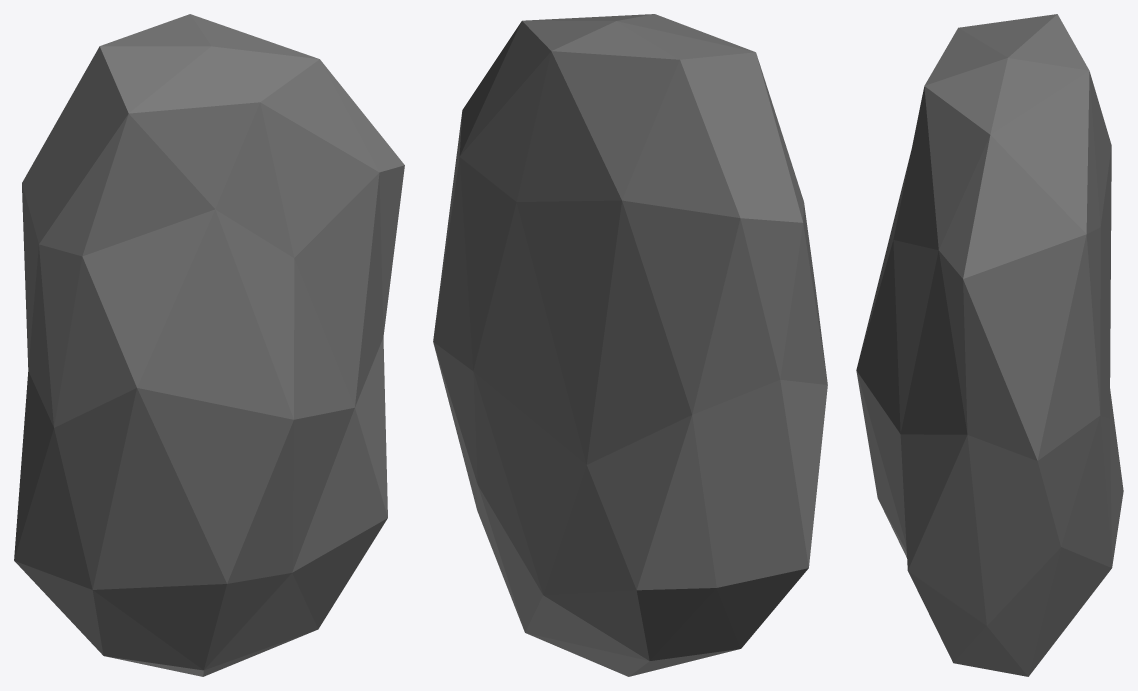
Rendered from Stone.fbx.
3 views of the same model, side by side, from view 1: azimuth 30°, elevation 25°; view 2: azimuth 150°, elevation 25°; view 3: azimuth 270°, elevation 25° (orthographic). The views are drawn at different scales.
Visible parts, largest first — view 1: Stone; view 2: Stone; view 3: Stone.
Boxes of the visible parts, x1=… form: Stone: x1=14, y1=14, x2=404, y2=676; Stone: x1=433, y1=14, x2=827, y2=676; Stone: x1=856, y1=14, x2=1123, y2=676.
Bounding box in the file's own units: 184 × 306 × 121.
1 material, 1 textured.
